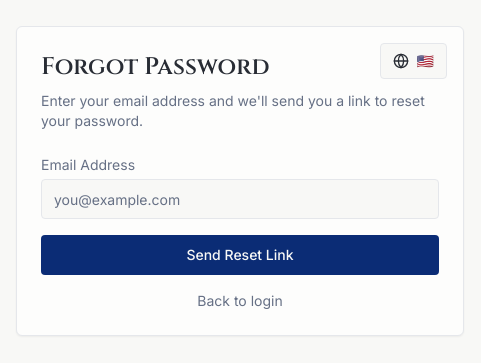
Scenario: ForgotPassword page › shows validation error for empty email
Click the button "Send Reset Link" at (240, 255), box [41,235,439,275]
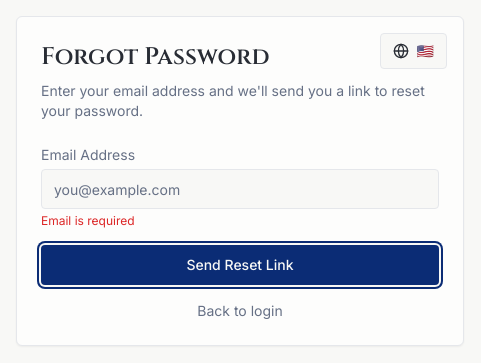
Check: the message reads "Email is required", box [41,213,135,228]
